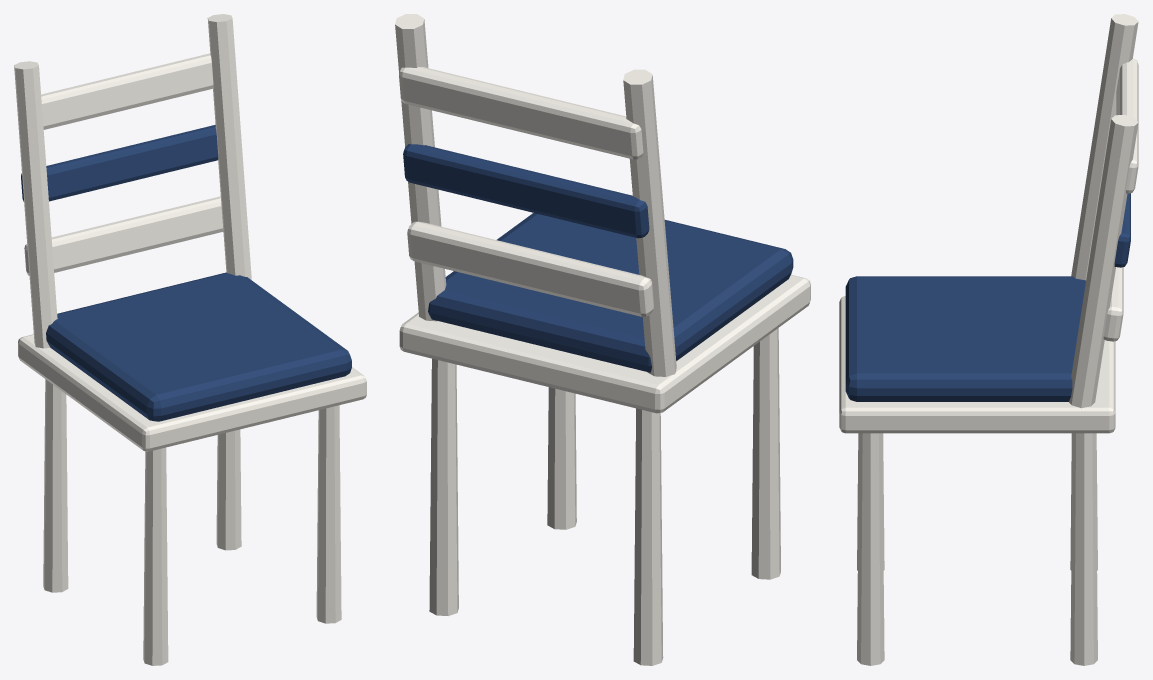
The model's file is b_chair_navy.gltf.
3 views of the same model, side by side, from view 1: azimuth 30°, elevation 25°; view 2: azimuth 150°, elevation 25°; view 3: azimuth 270°, elevation 25° (orthographic). The views are drawn at different scales.
Parts seen in each view (by area): view 1: b_chair_navy; view 2: b_chair_navy; view 3: b_chair_navy.
Part boxes in pixels (<box>): b_chair_navy: <box>14,14,366,665</box>; b_chair_navy: <box>395,14,810,665</box>; b_chair_navy: <box>839,14,1138,665</box>.
Size of the model in its own units: 0.44 by 0.9606 by 0.4766.
Materials: 1 (1 with a texture image).
